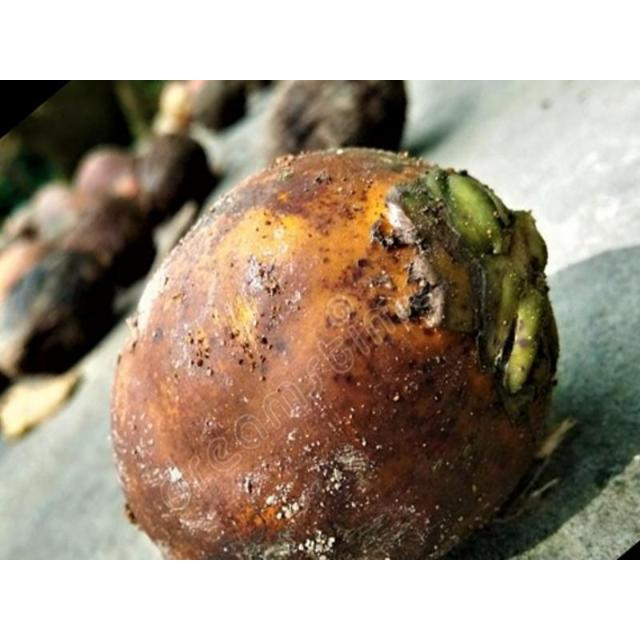damaged: (112, 148, 558, 559)
